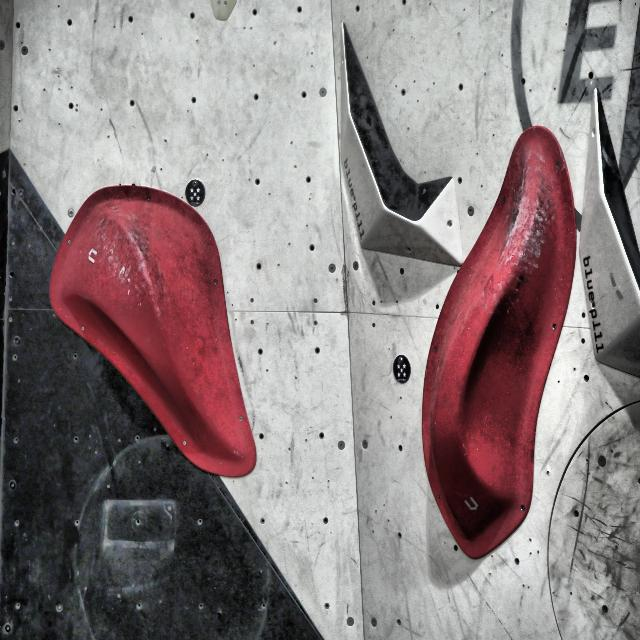Hold: (421, 122, 575, 561), (49, 184, 257, 479), (380, 146, 381, 148)
